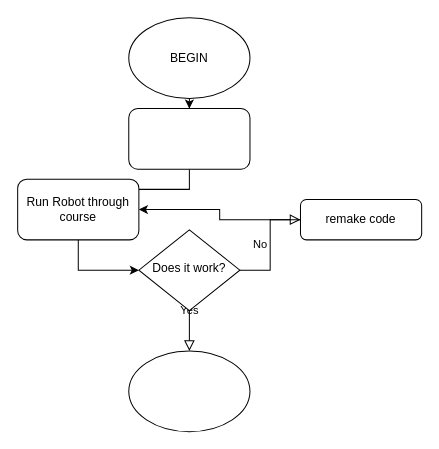
Image size: 439x449. Some labels were removed from this diagram. Each missing label, with the centre of its shape:
Create Code: (x=189, y=138)
Finish: (x=189, y=391)
